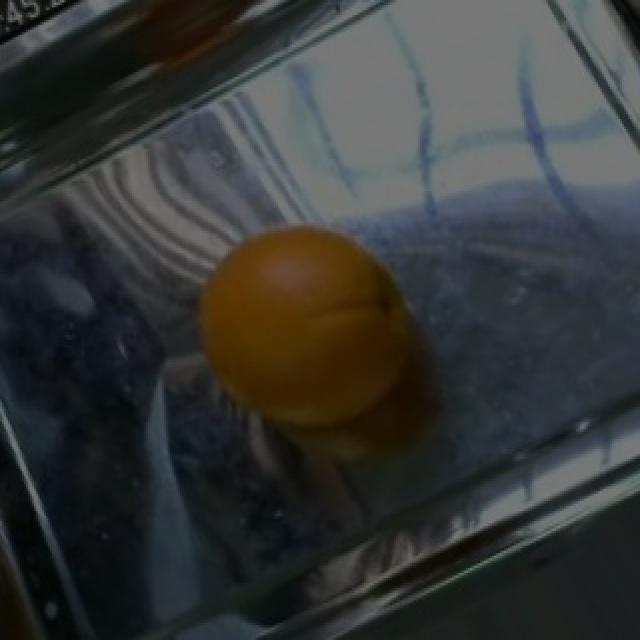Fruit: (172, 206, 432, 454)
